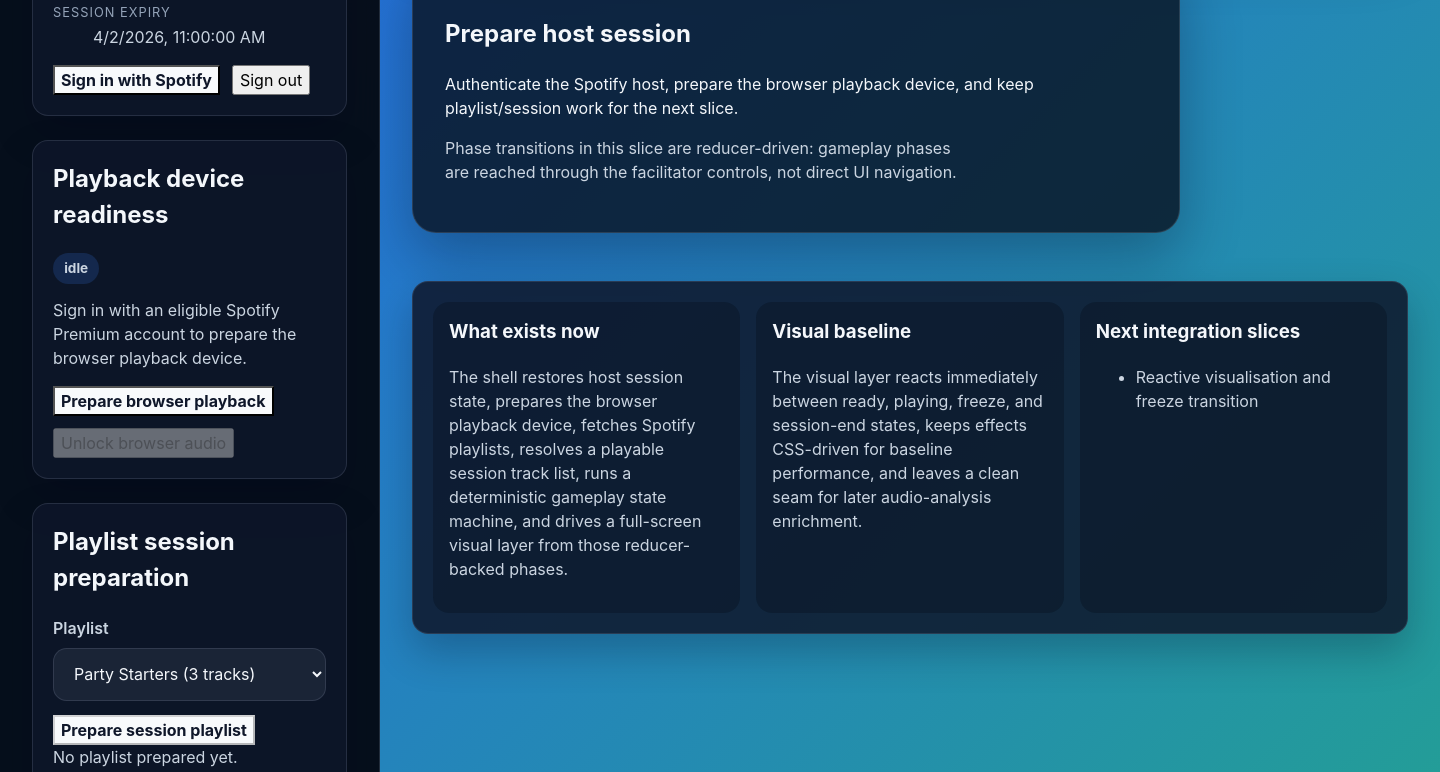
Test case: App gameplay control slice › invalidates stale prepared session state when the selected playlist changes
(page scrolled)
Click the button "Prepare browser playback": coordinates (163, 401) [53, 386, 274, 416]
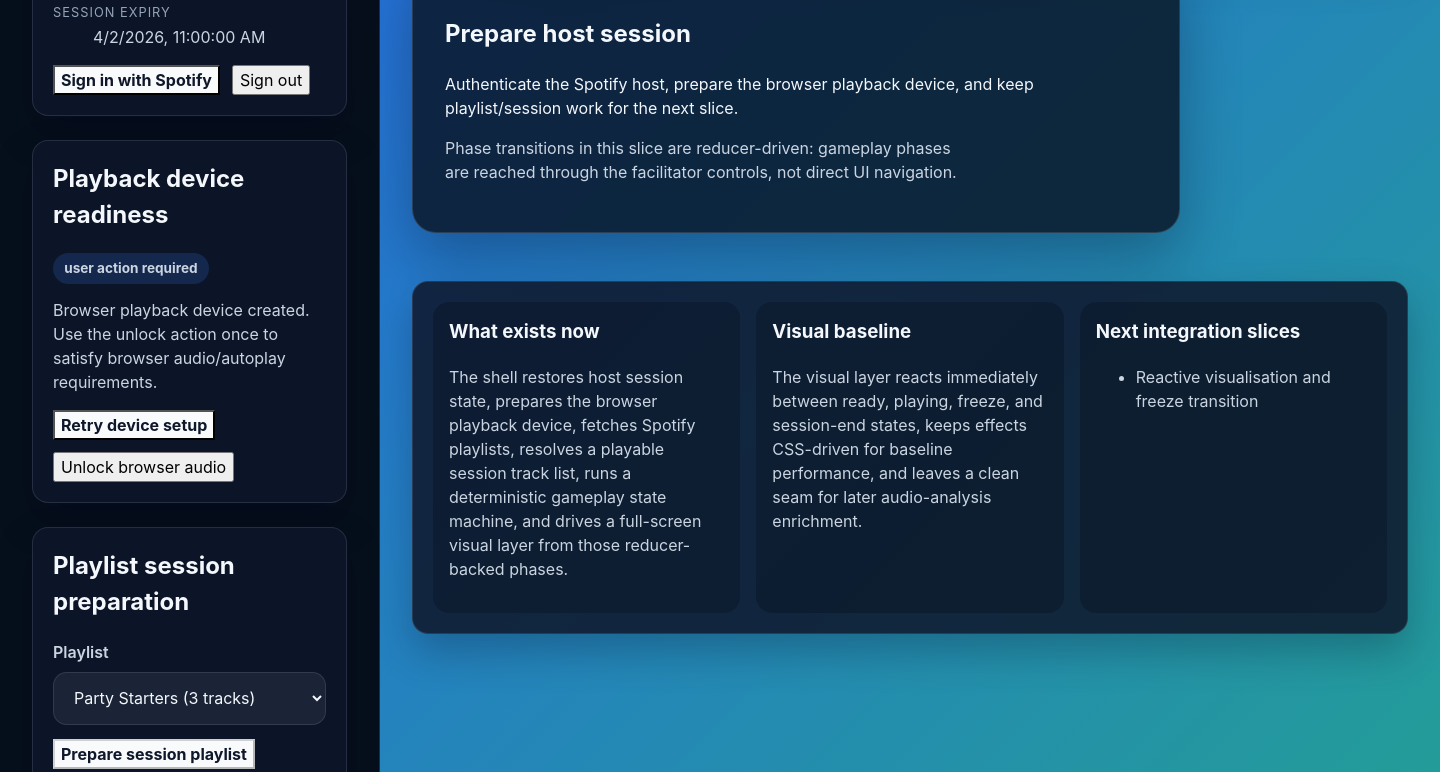
Expected: the button "Unlock browser audio" is enabled
Click the button "Unlock browser audio": coordinates (144, 467) [53, 452, 234, 482]
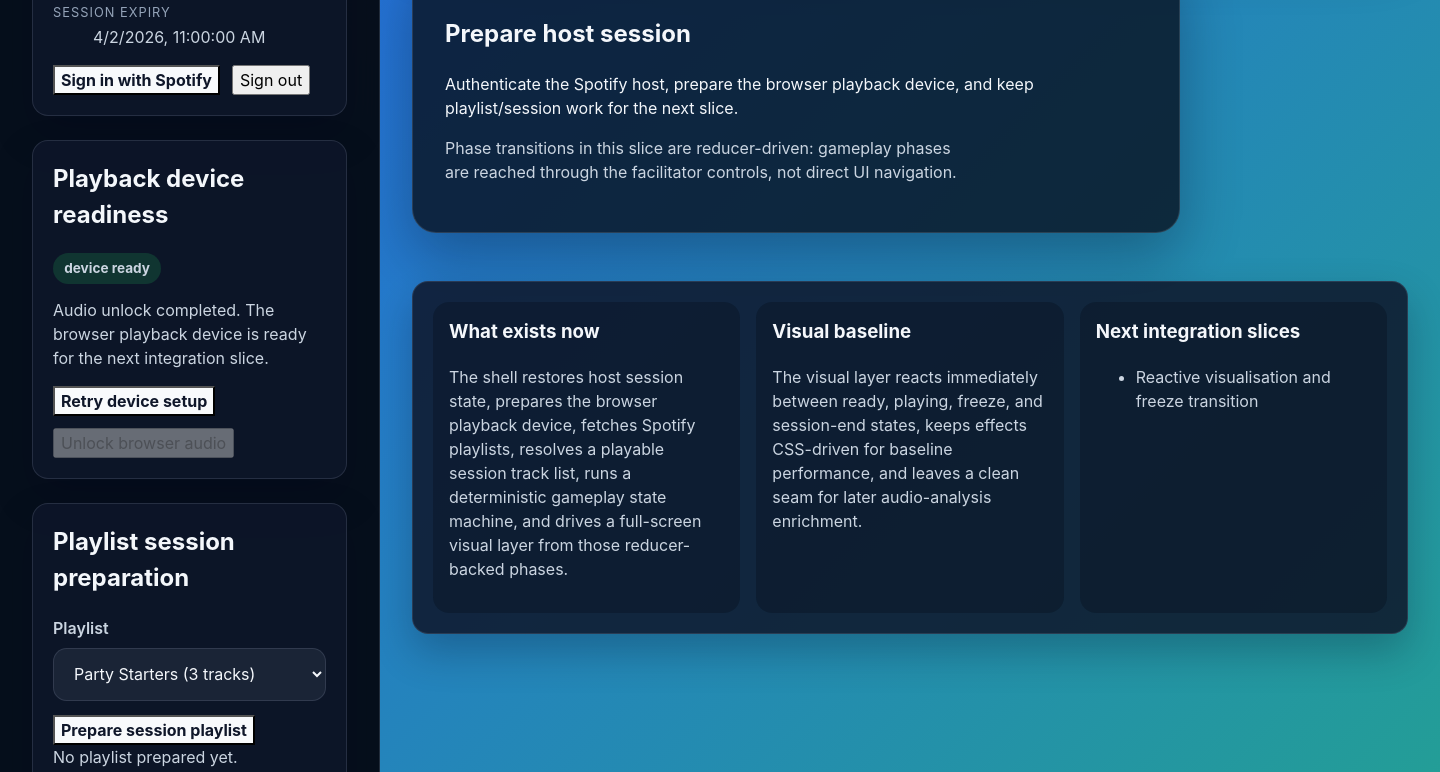
Click the button "Prepare session playlist": coordinates (154, 730) [53, 715, 255, 745]
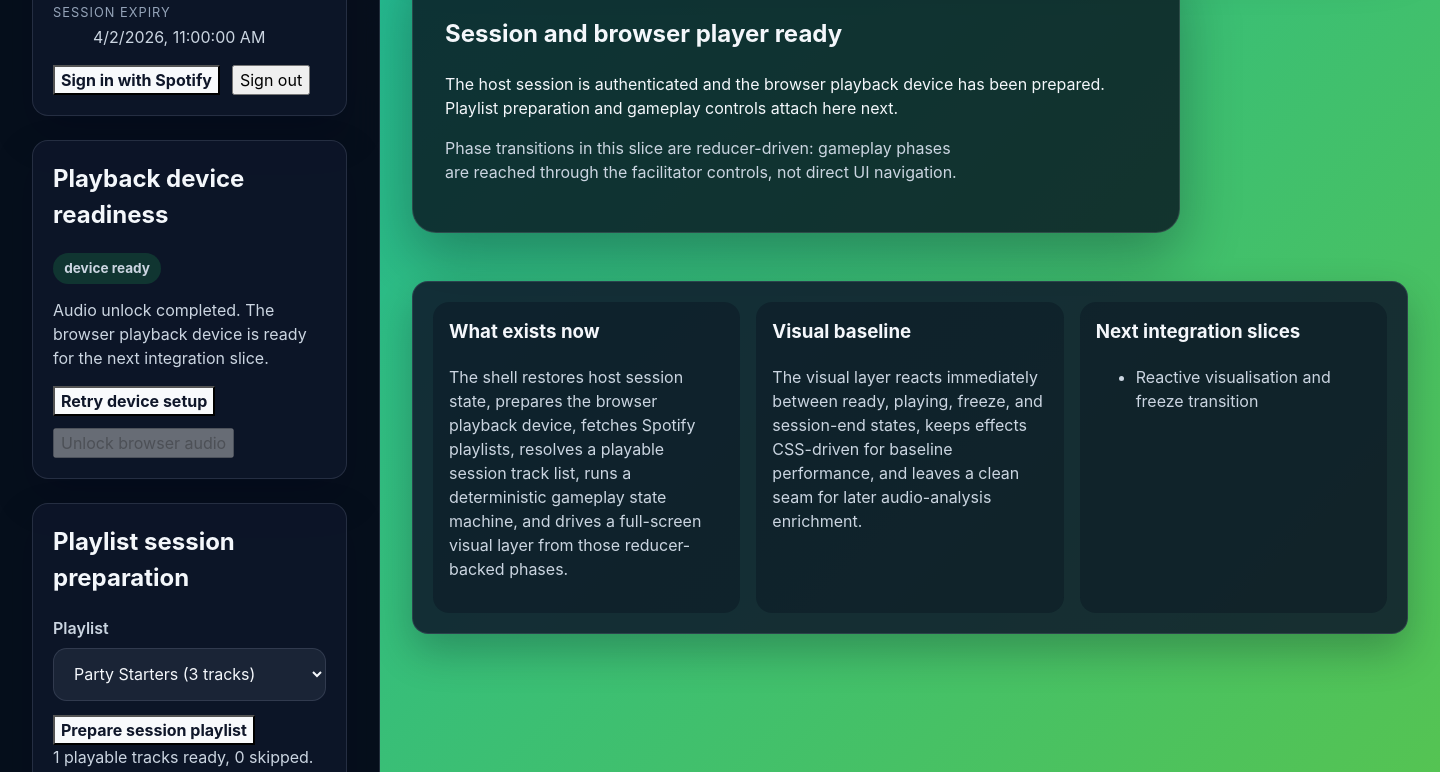
Select "Cool Down (2 tracks)" in the dropdown labelled "Playlist": coordinates (190, 674) [53, 648, 326, 701]
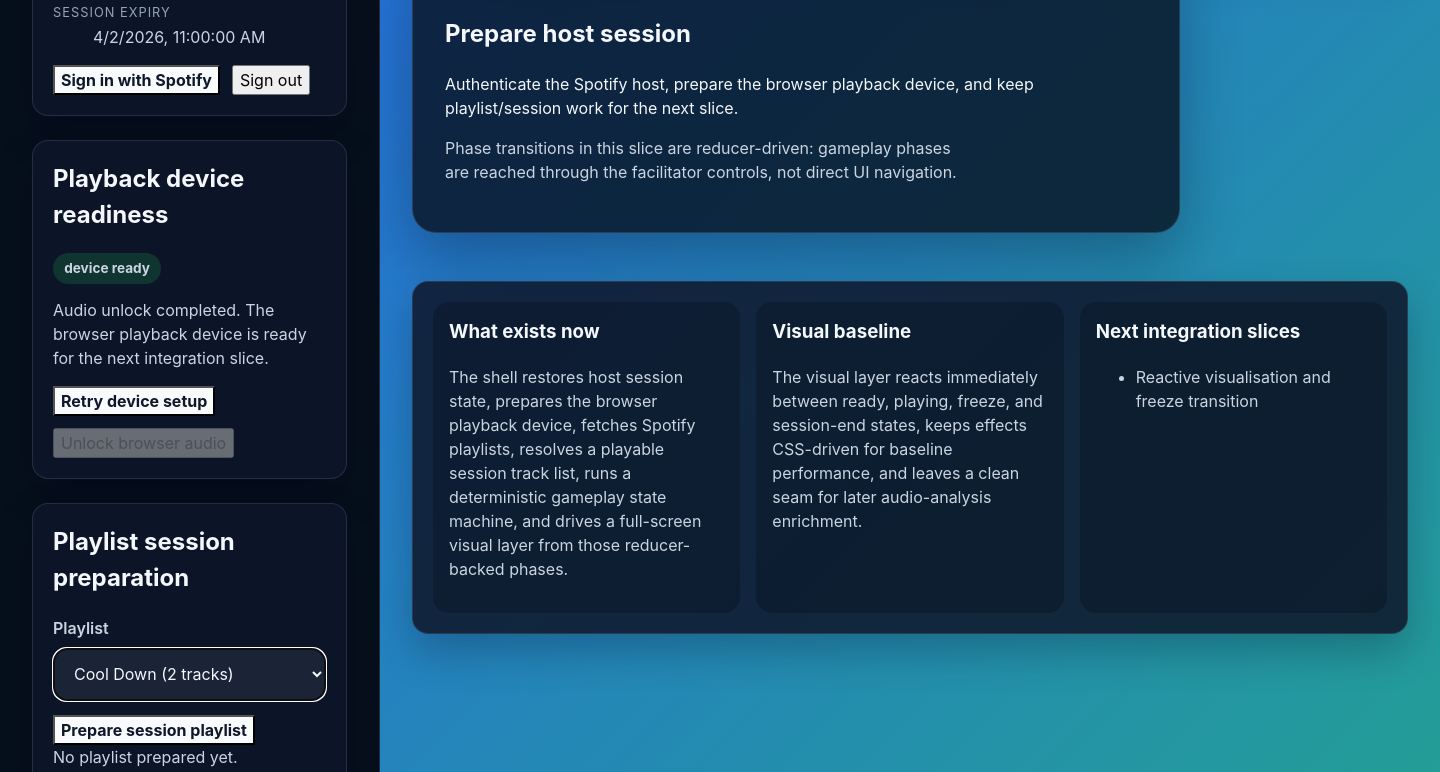
Expected: the text "No playlist prepared yet." is shown, [53, 747, 238, 767]
